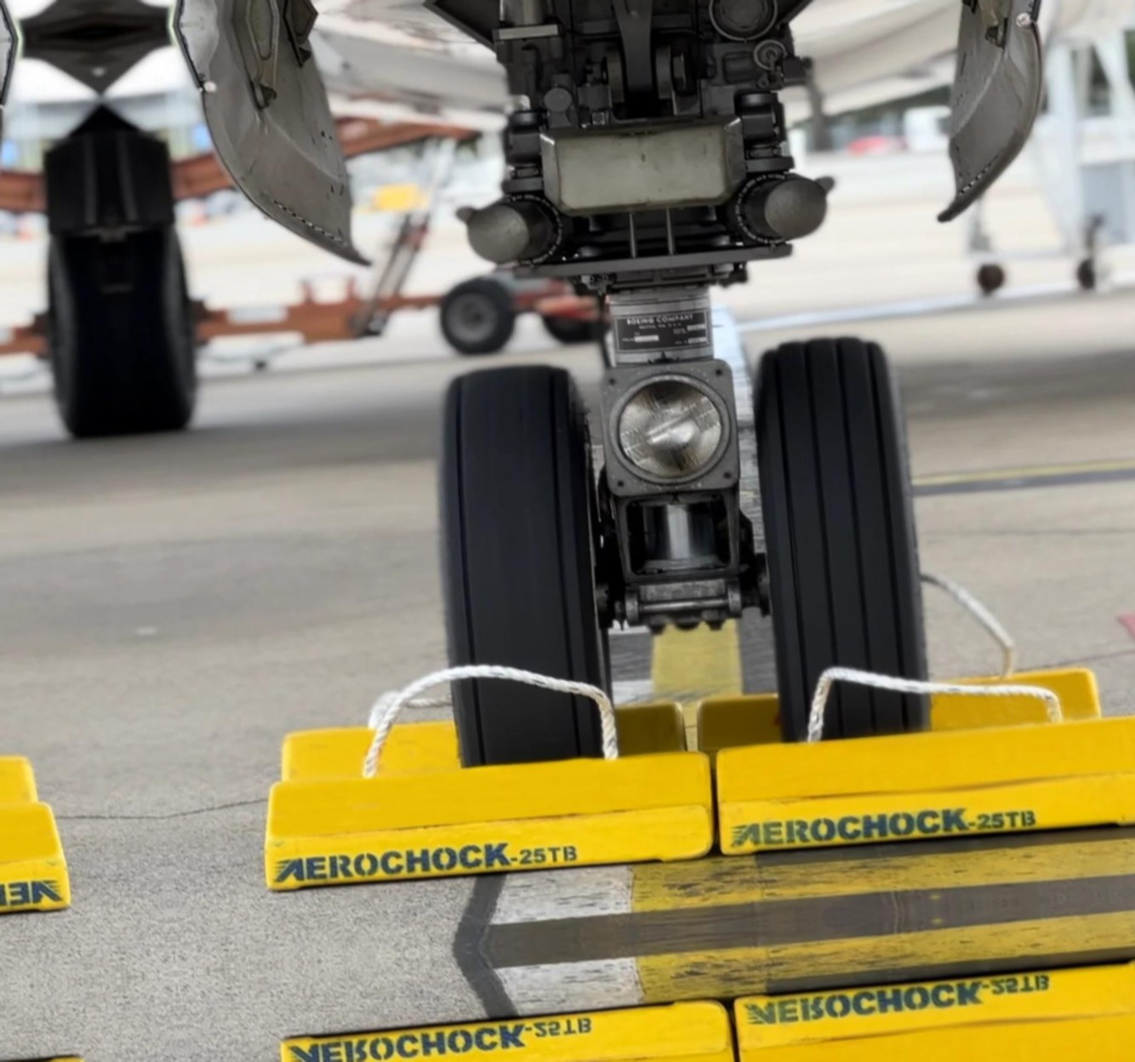chock: (257, 744, 719, 898), (712, 709, 1135, 861), (733, 955, 1135, 1062), (273, 694, 693, 788), (693, 663, 1109, 755), (278, 995, 740, 1062)
wheel: (427, 356, 617, 767), (744, 331, 928, 746), (120, 246, 202, 429), (40, 253, 122, 435), (436, 276, 514, 355), (542, 304, 600, 345)
